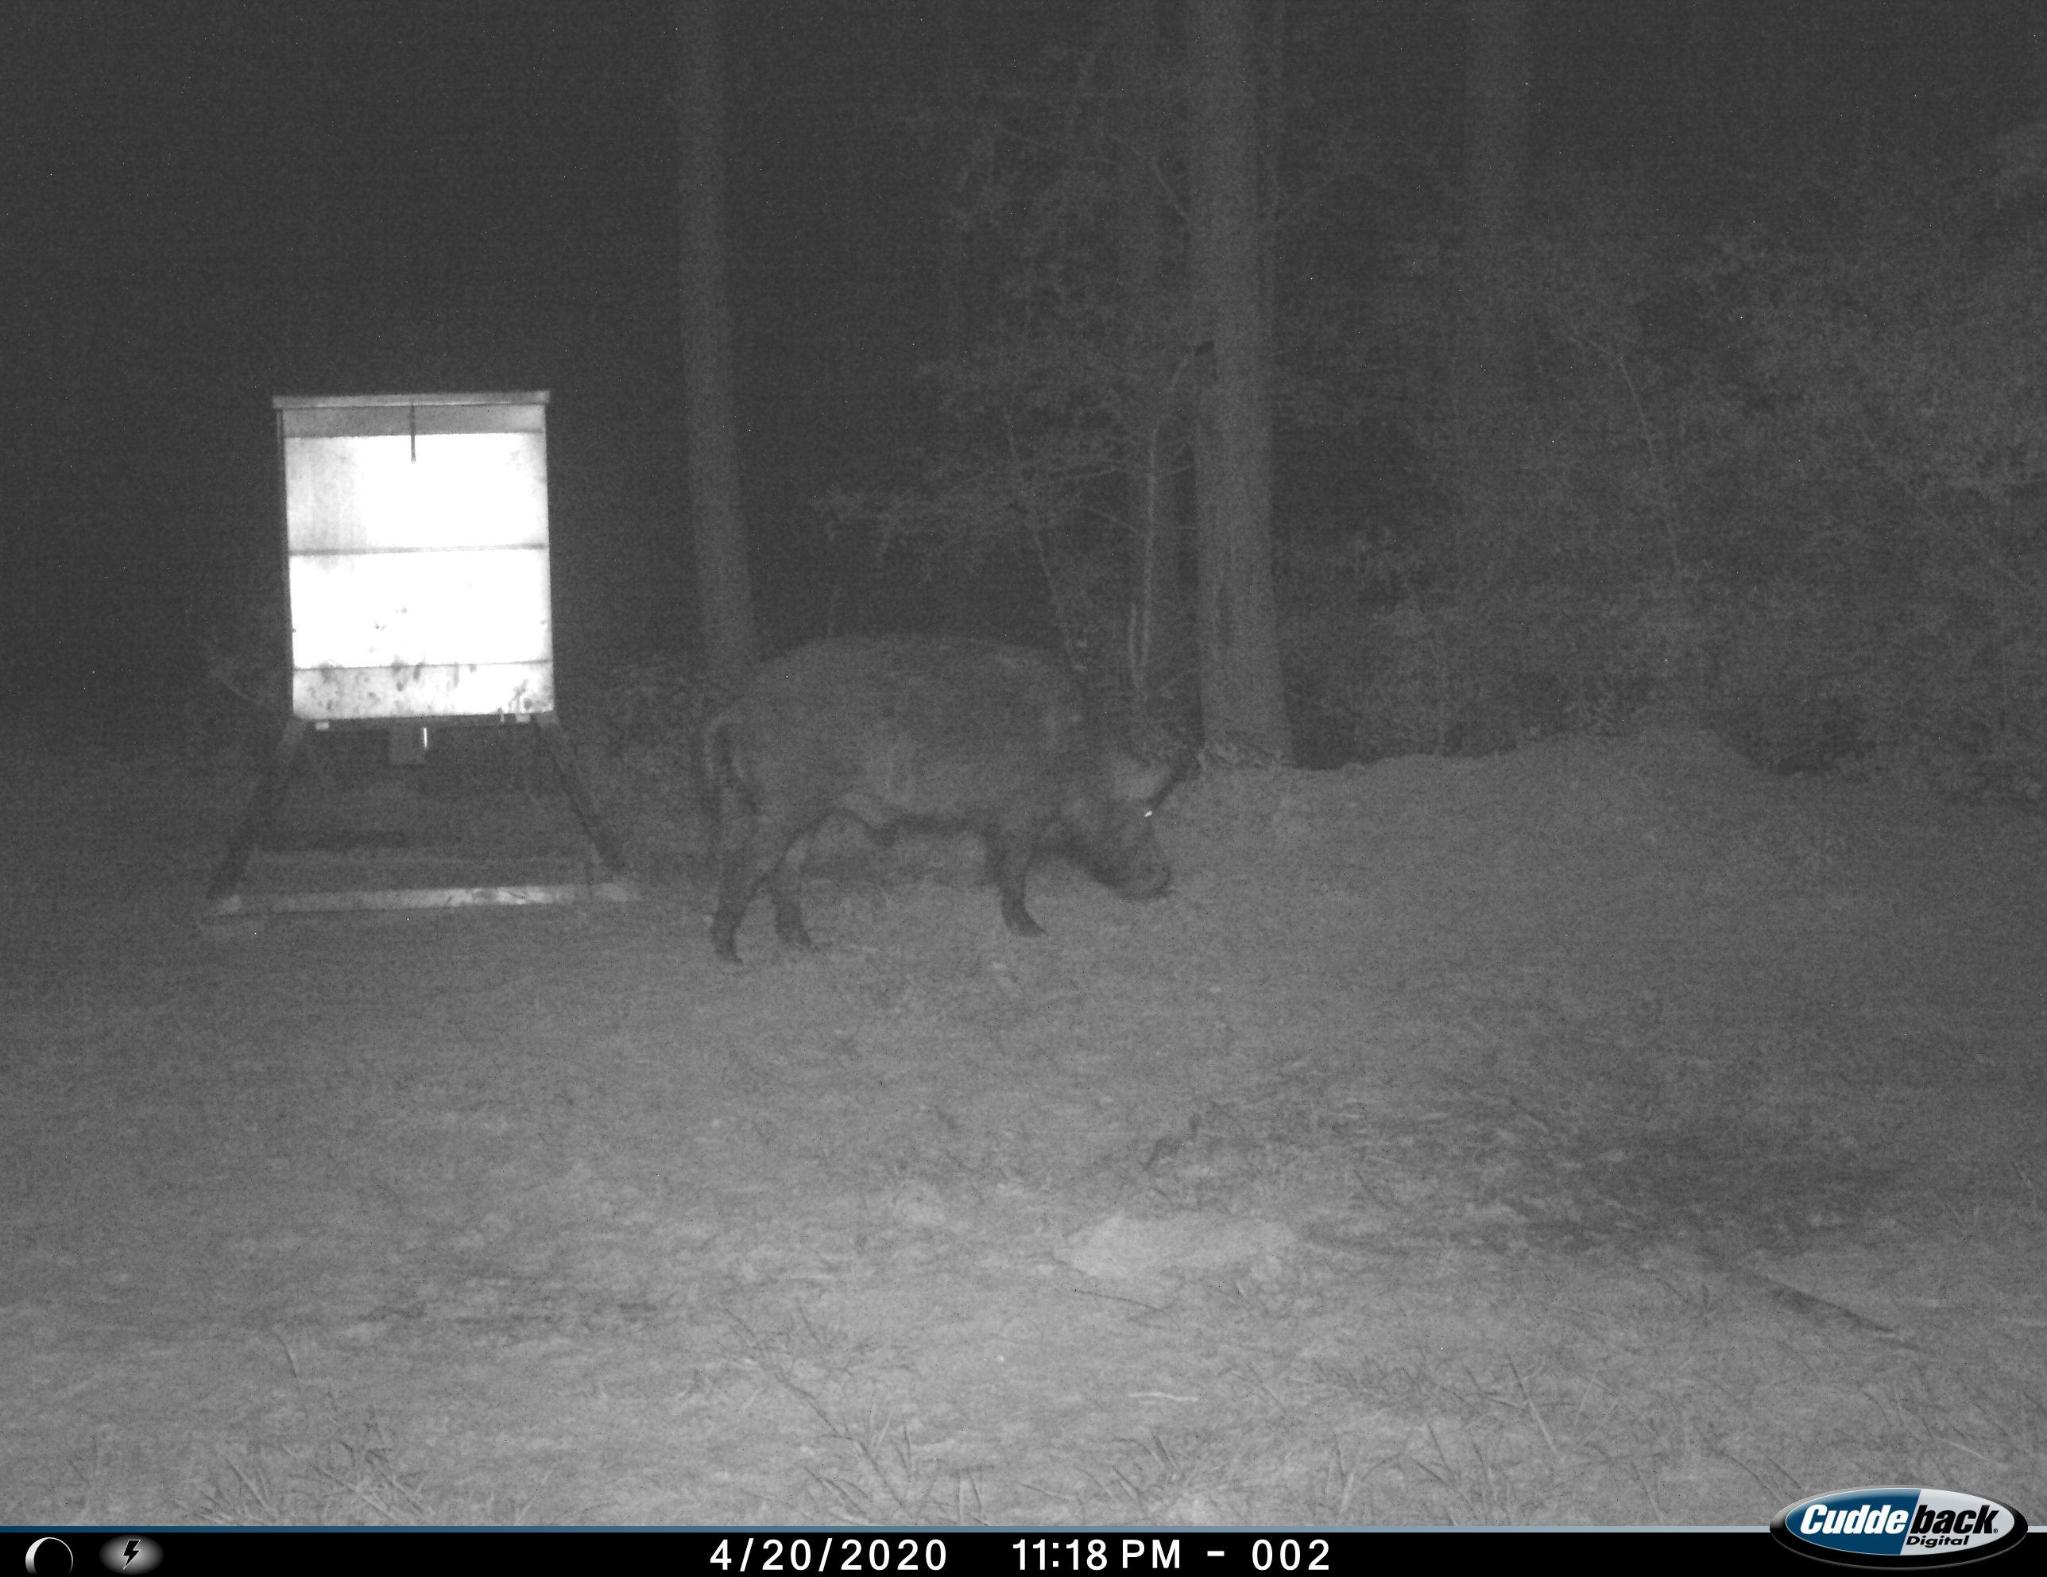Hog: (689, 623, 1202, 976)
